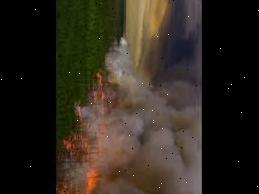fire: (57, 132, 104, 194), (87, 69, 118, 126)
